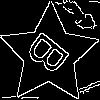B: (24, 29, 79, 84)
